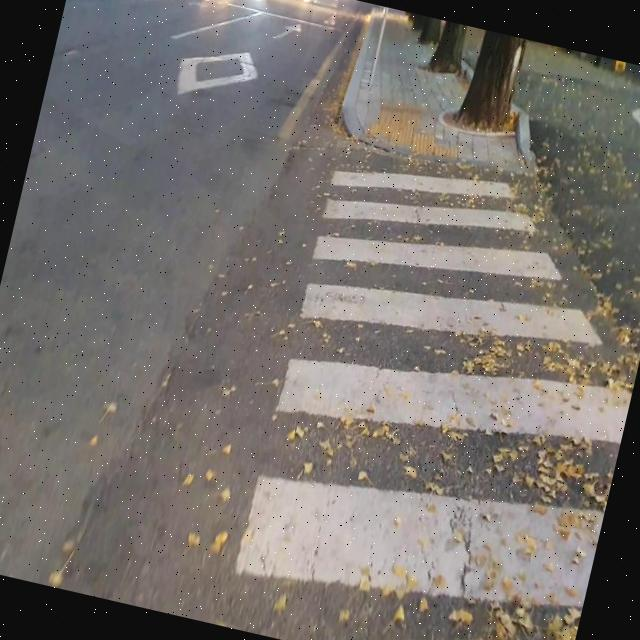crosswalk: (222, 168, 633, 640)
